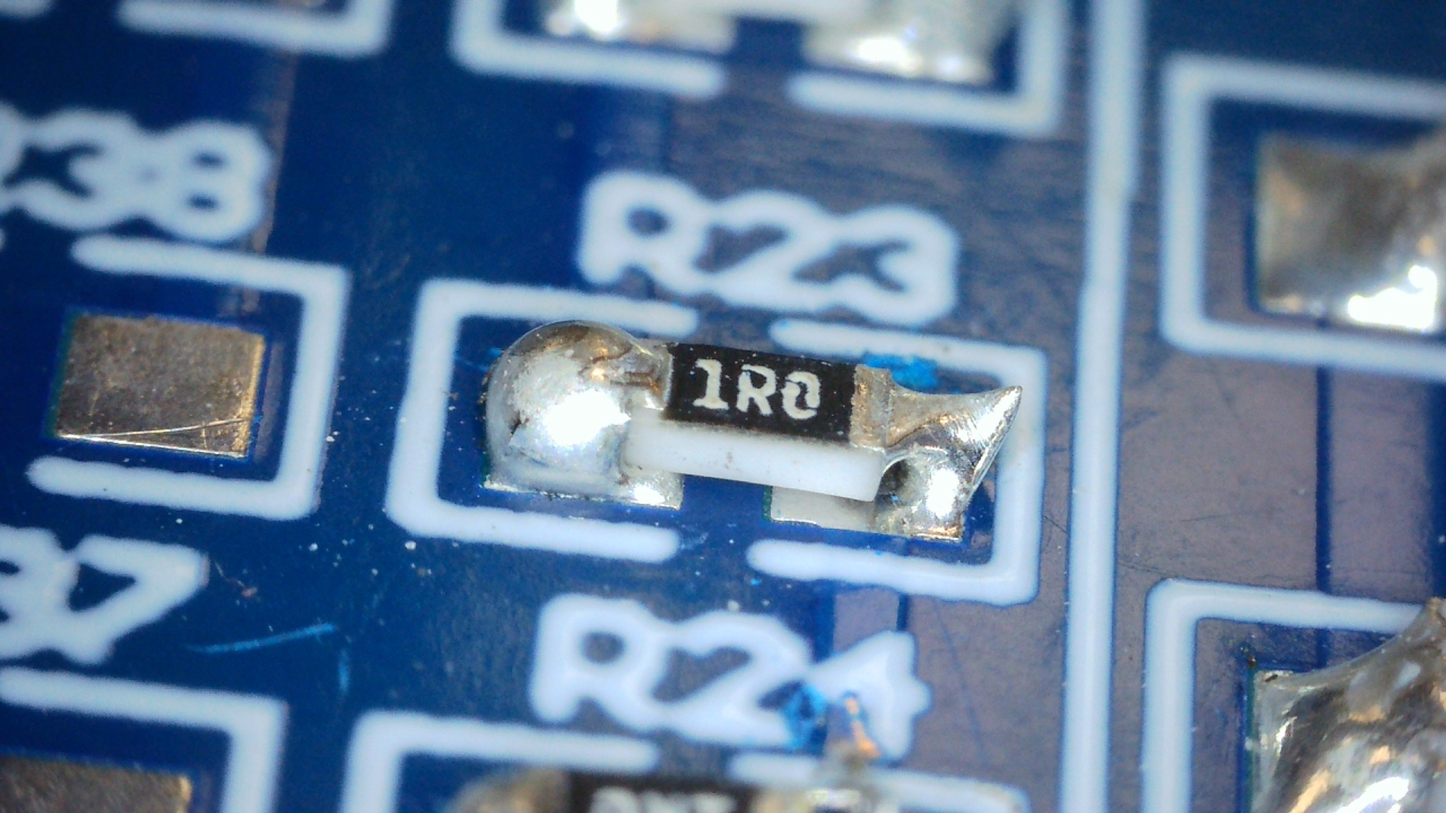NG: (486, 321, 667, 494), (884, 380, 1021, 541)
